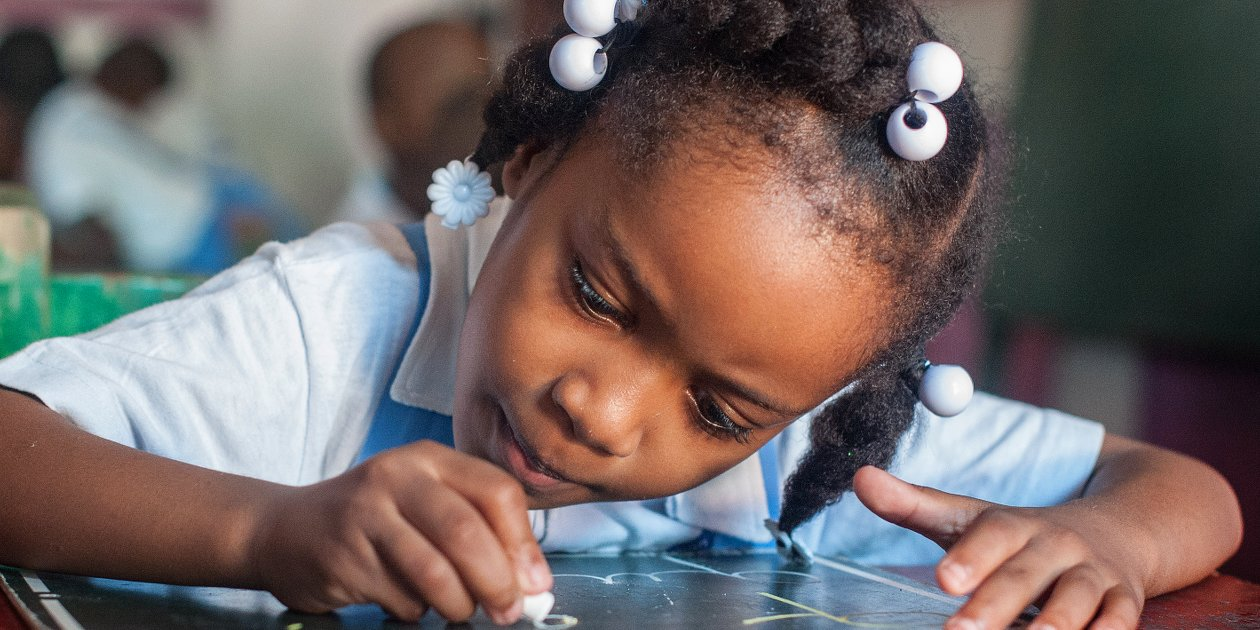human: (1, 1, 1260, 630)
